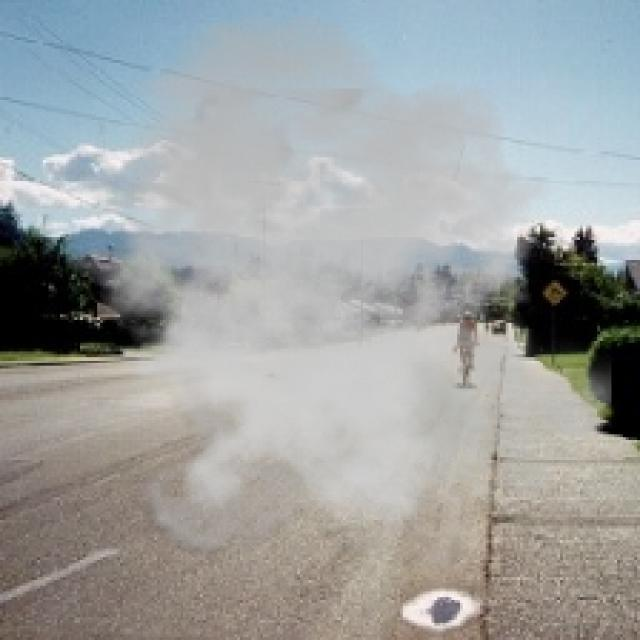Smoke: (43, 11, 612, 566)
